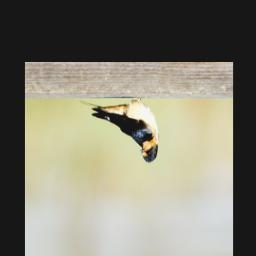Swallow: (79, 94, 159, 164)
